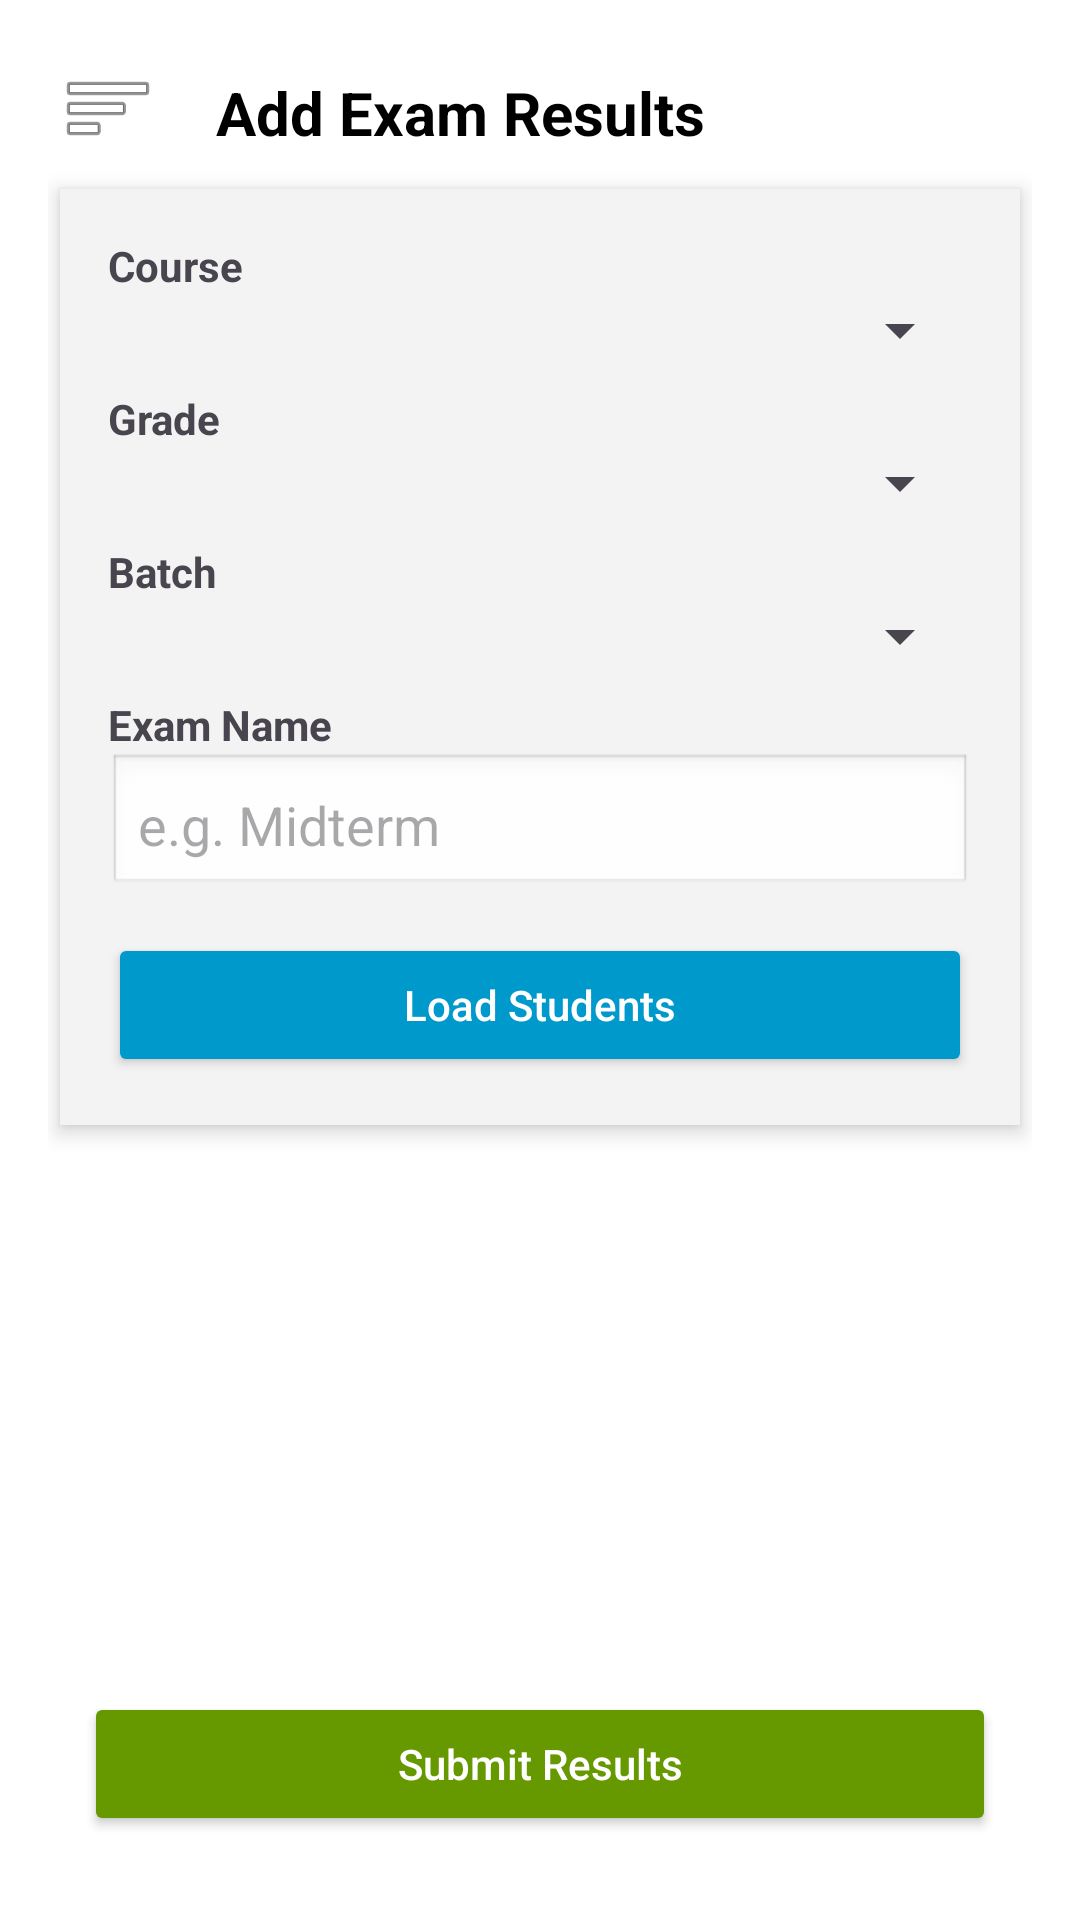

Named icons in this screenshot (1080*1920) and their centers, [x,y]:
Toggle Sidebar: [108,108]
